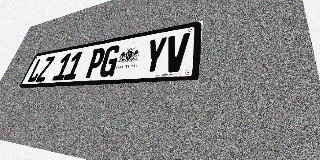1: (63, 51, 85, 80), (52, 53, 73, 81)
G: (98, 44, 122, 78)
L: (26, 58, 46, 83)
P: (83, 47, 107, 79)
V: (163, 32, 190, 73)
Y: (142, 36, 168, 74)
Z: (35, 56, 55, 82)
